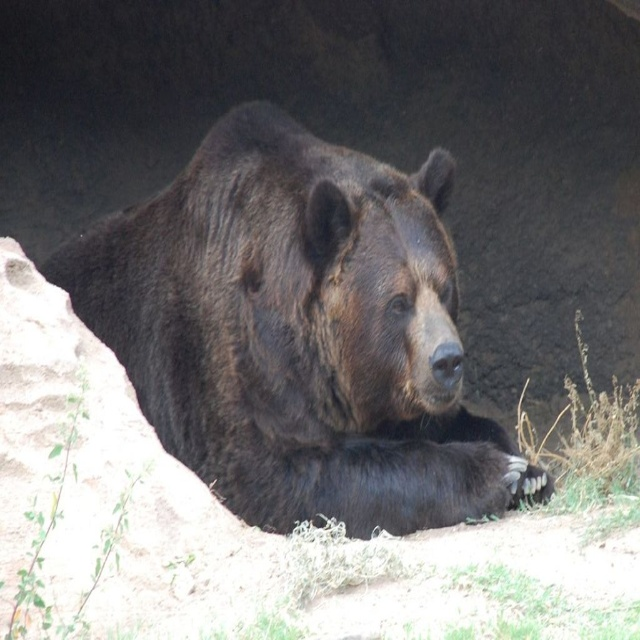Brown bear: (35, 99, 554, 541)
